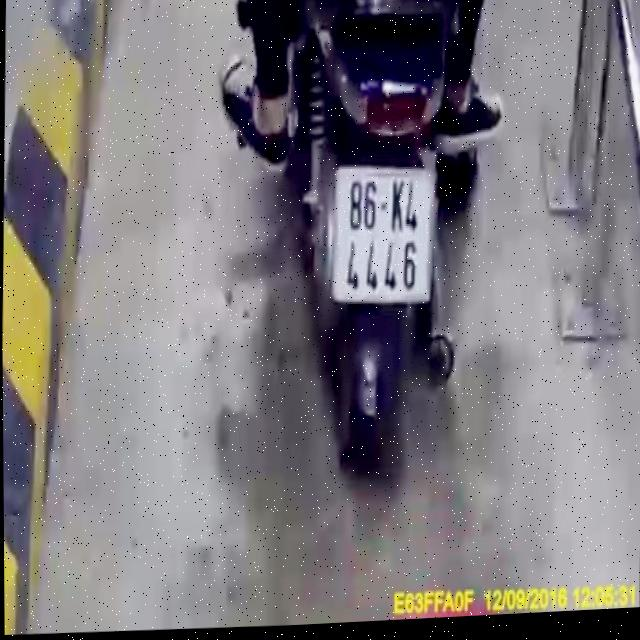motorcycle: (267, 0, 482, 504)
plate: (324, 154, 438, 311)
